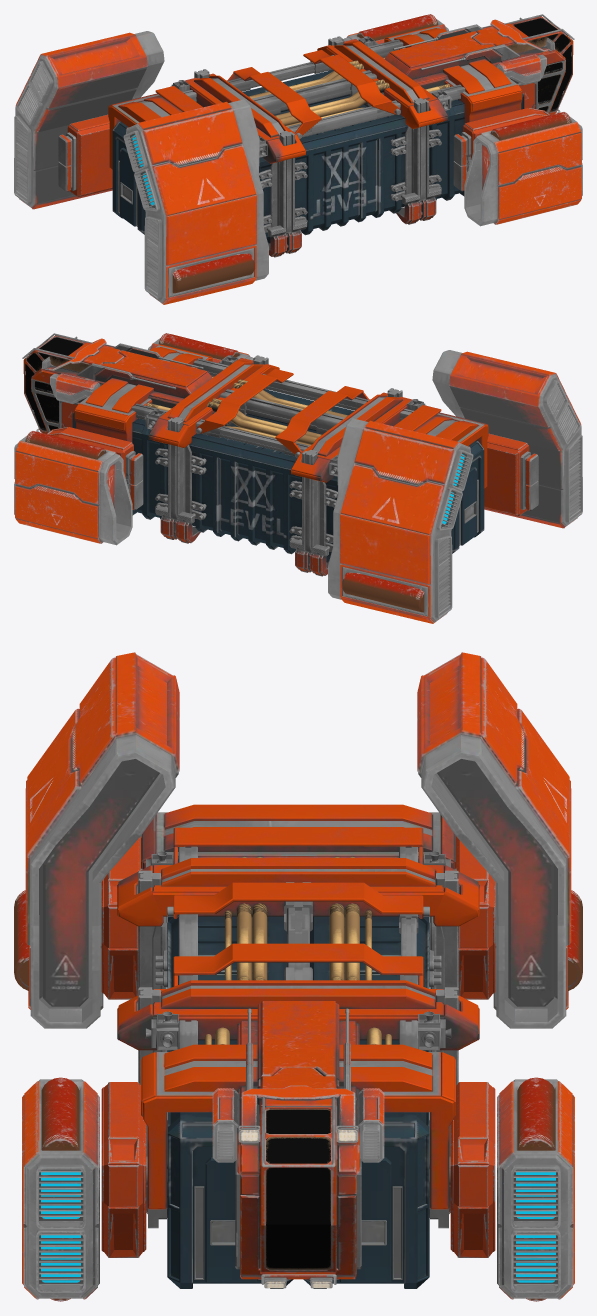
Rendered from corinth-cargo.glb.
3 renders of one model, top to bottom at view 1: azimuth 30°, elevation 25°; view 2: azimuth 150°, elevation 25°; view 3: azimuth 270°, elevation 25°, orthographic. The views are drawn at different scales.
Parts seen in each view (by area): view 1: root; view 2: root; view 3: root.
Part boxes in pixels (<box>): root: <box>14,14,582,304</box>; root: <box>14,333,582,623</box>; root: <box>14,652,582,1301</box>.
Size of the model in its own units: 82 by 28.29 by 47.37.
Materials: 15 (11 with a texture image).
